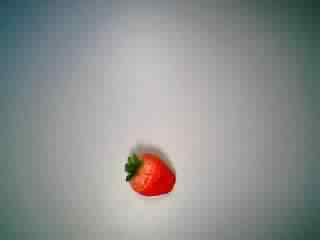strawberry: (113, 138, 181, 202)
